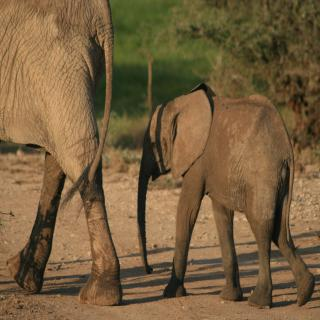Elephant: (135, 80, 317, 313)
